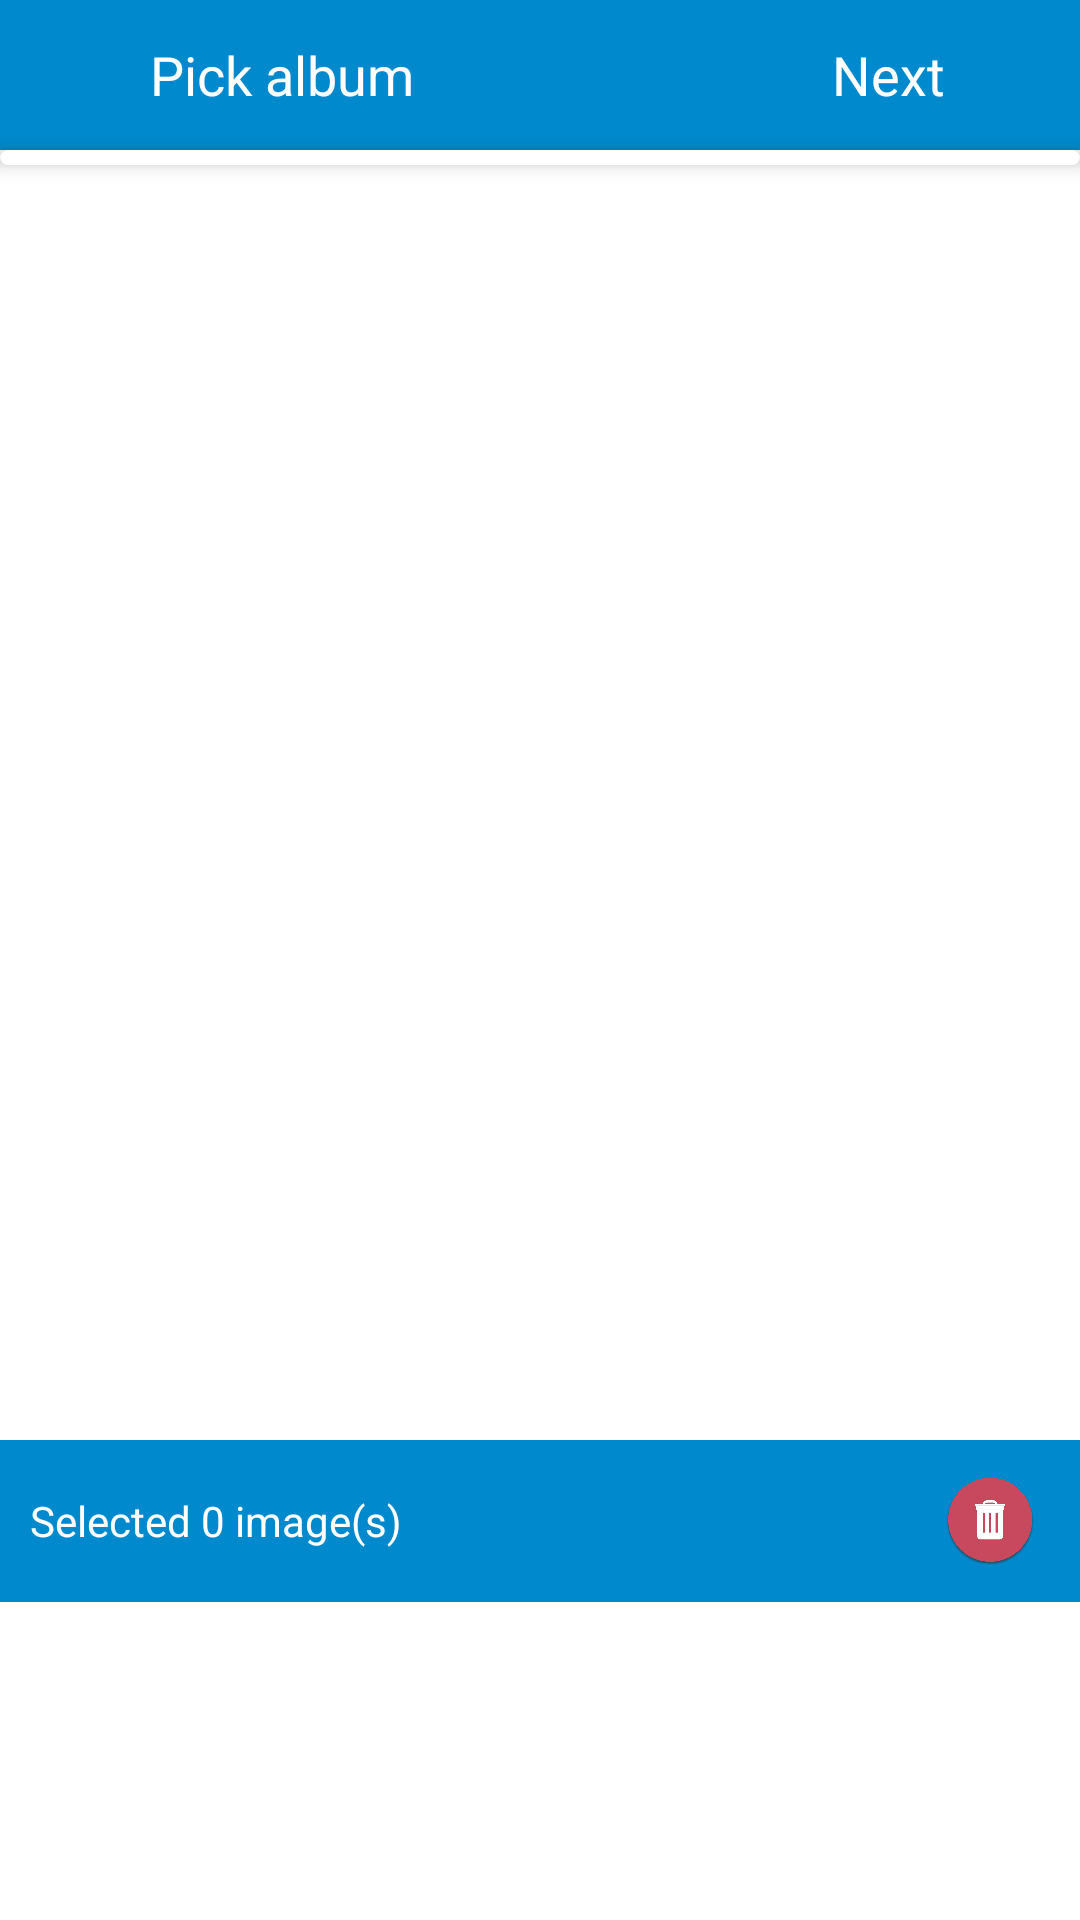

Icons on this 1080×1920 Android screen, each with the point to tap as (x,y):
clear: (990,1521)
